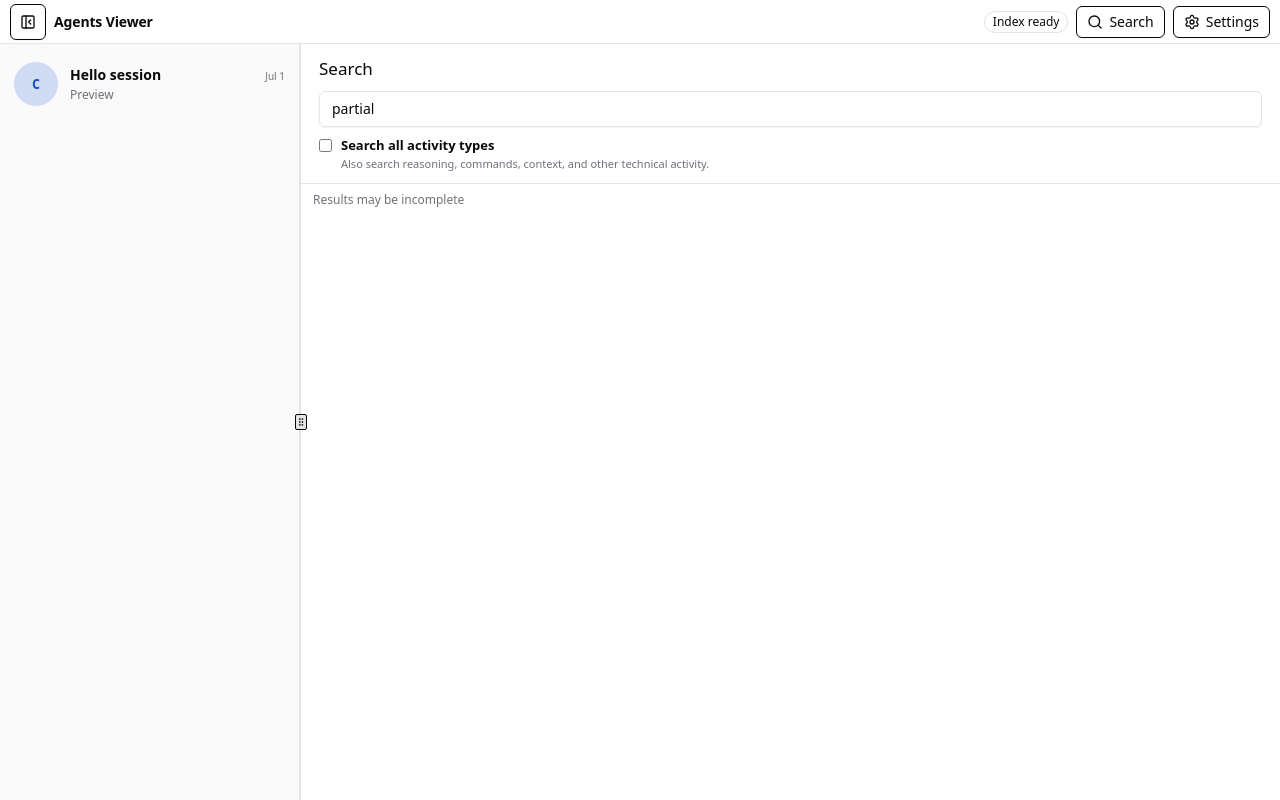
Test case: Agents Viewer UI › shows the same partial-search warning on the page and dialog
expect the text "Results may be incomplete" is shown: met, box top-left (313, 191), bottom-right (464, 208)
Press k
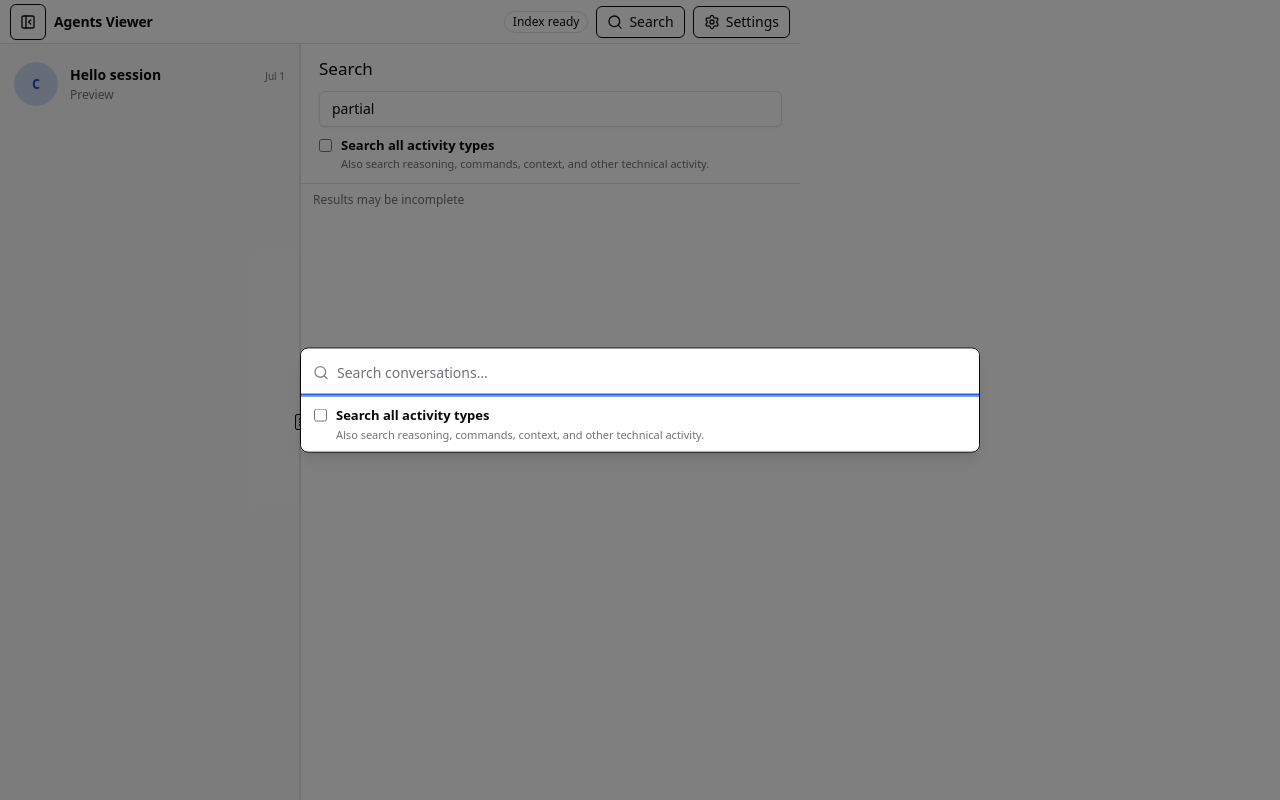
Type "partial" into the dropdown labelled "Search". click: x=652, y=372
box: top-left (337, 348), bottom-right (967, 396)
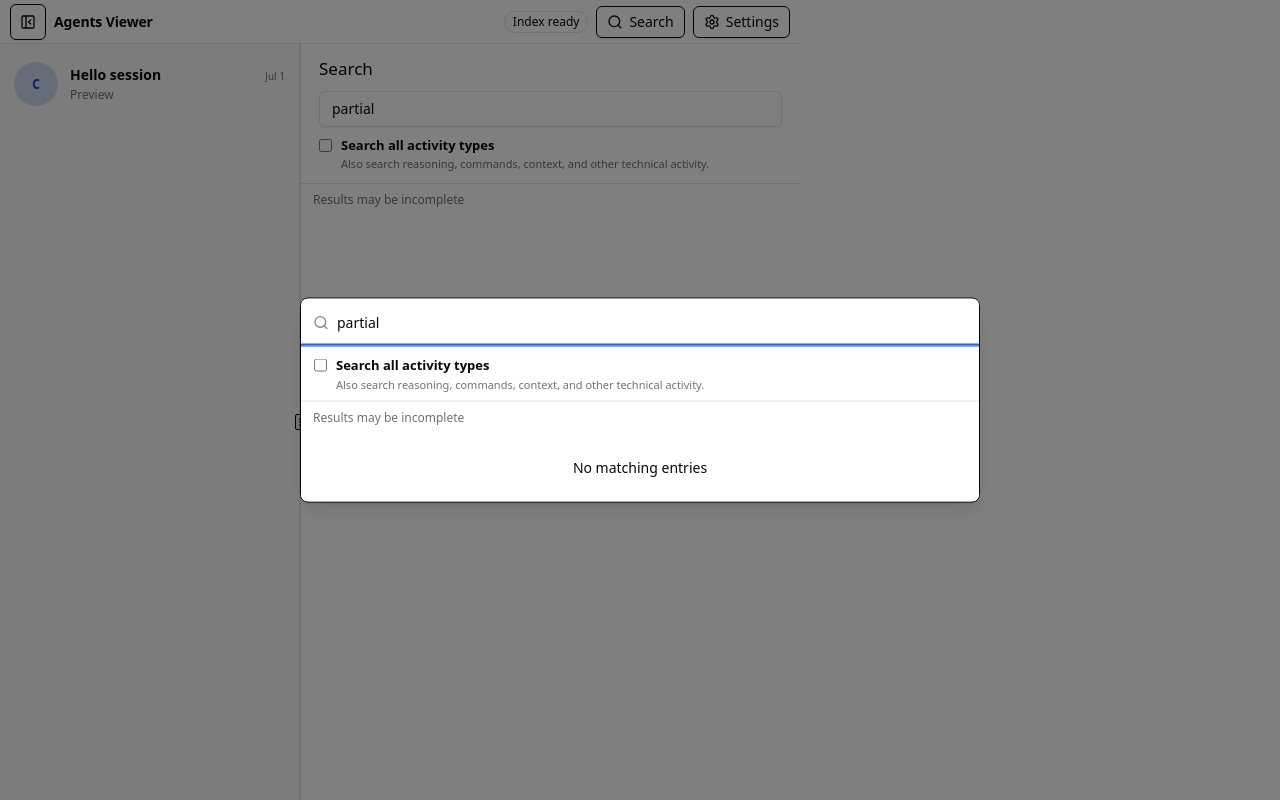
expect the text "Results may be incomplete" is shown 2 times: met, box top-left (313, 191), bottom-right (464, 208); top-left (313, 408), bottom-right (464, 425)
